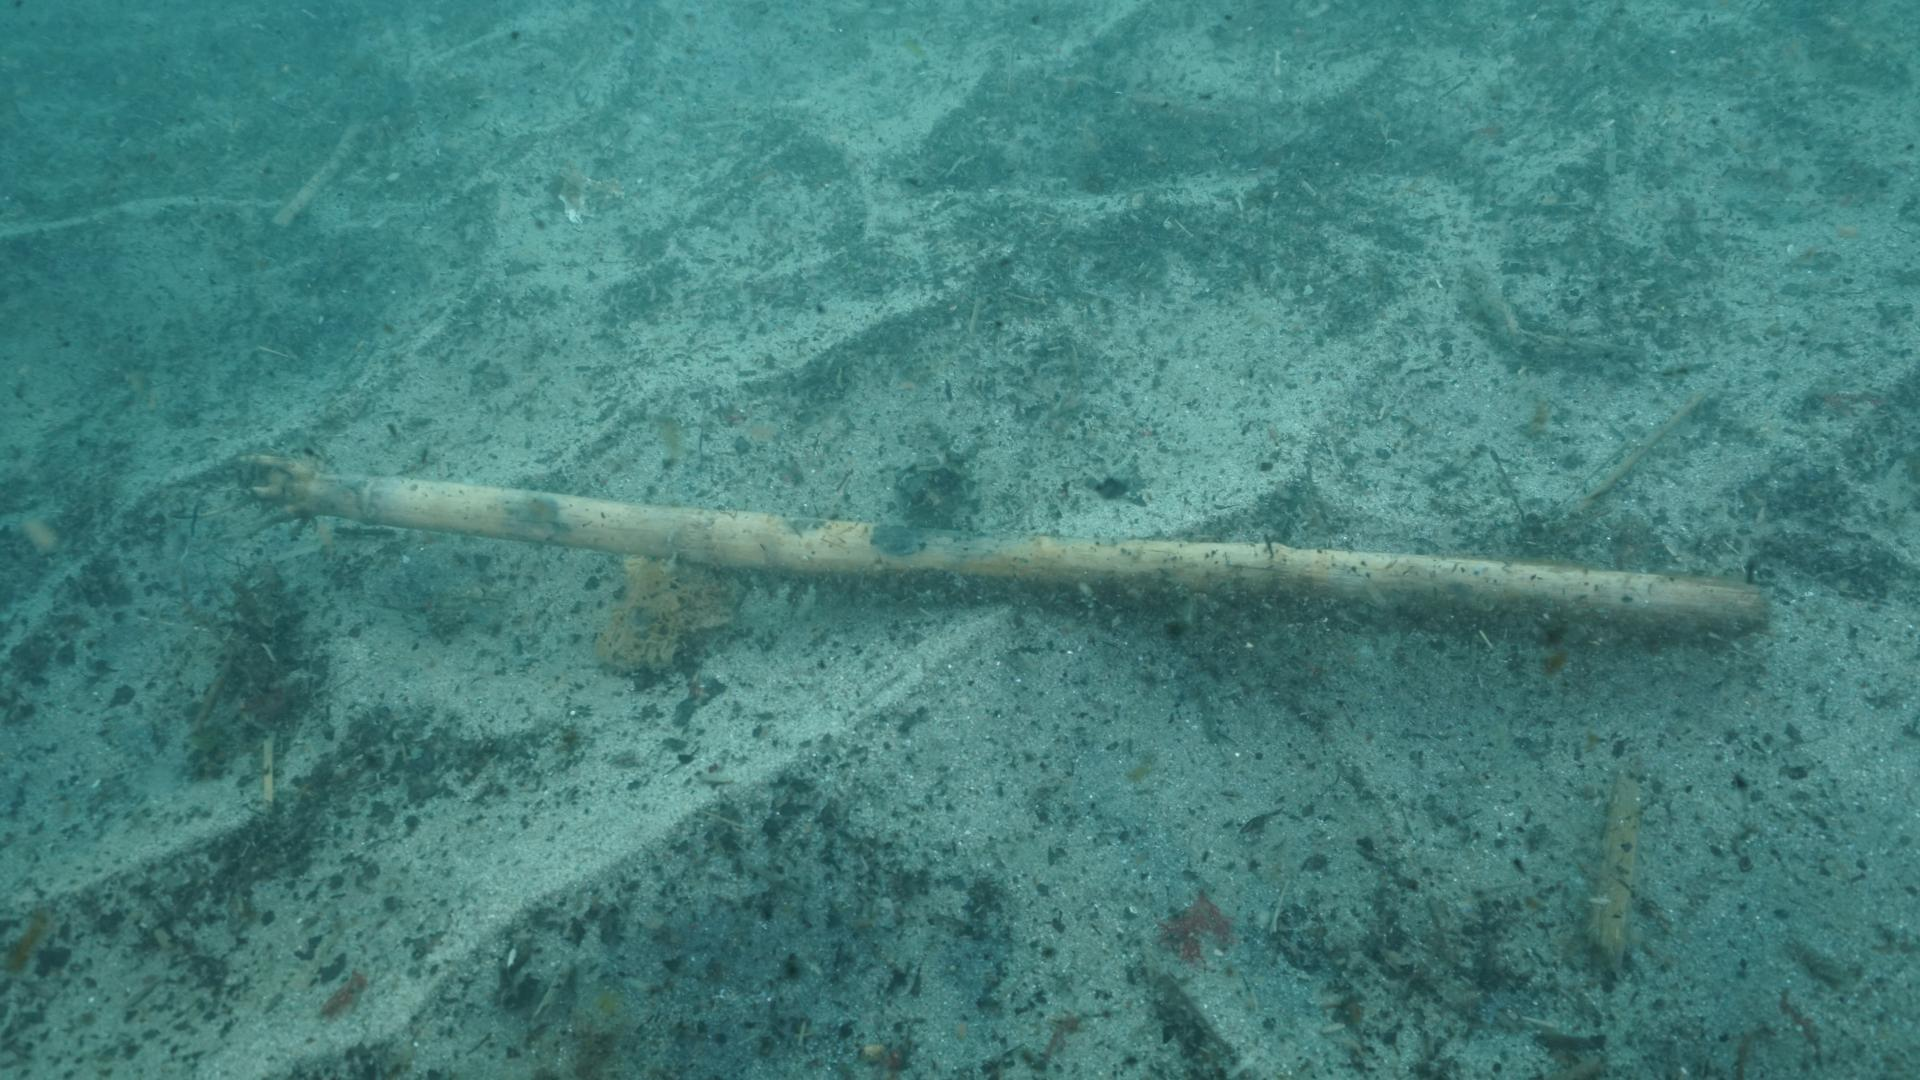wood: (241, 452, 1772, 640)
